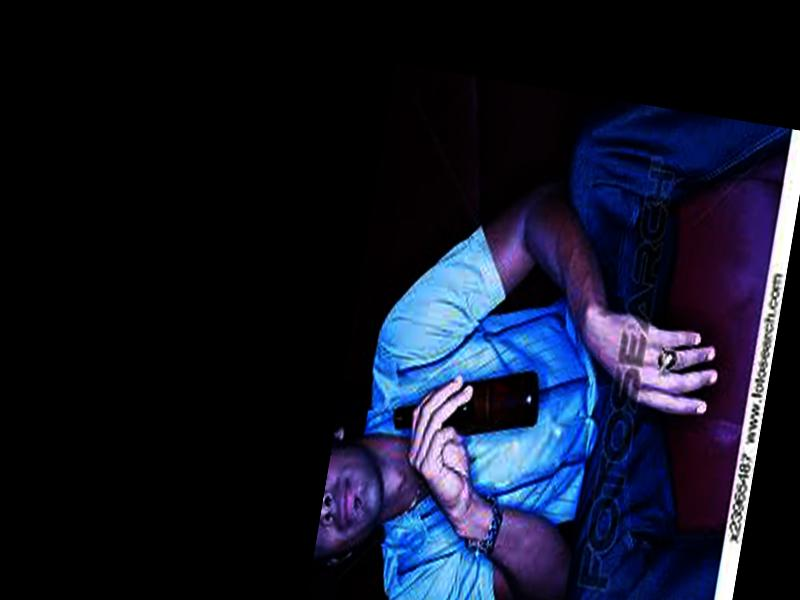Beer: (391, 348, 543, 451)
